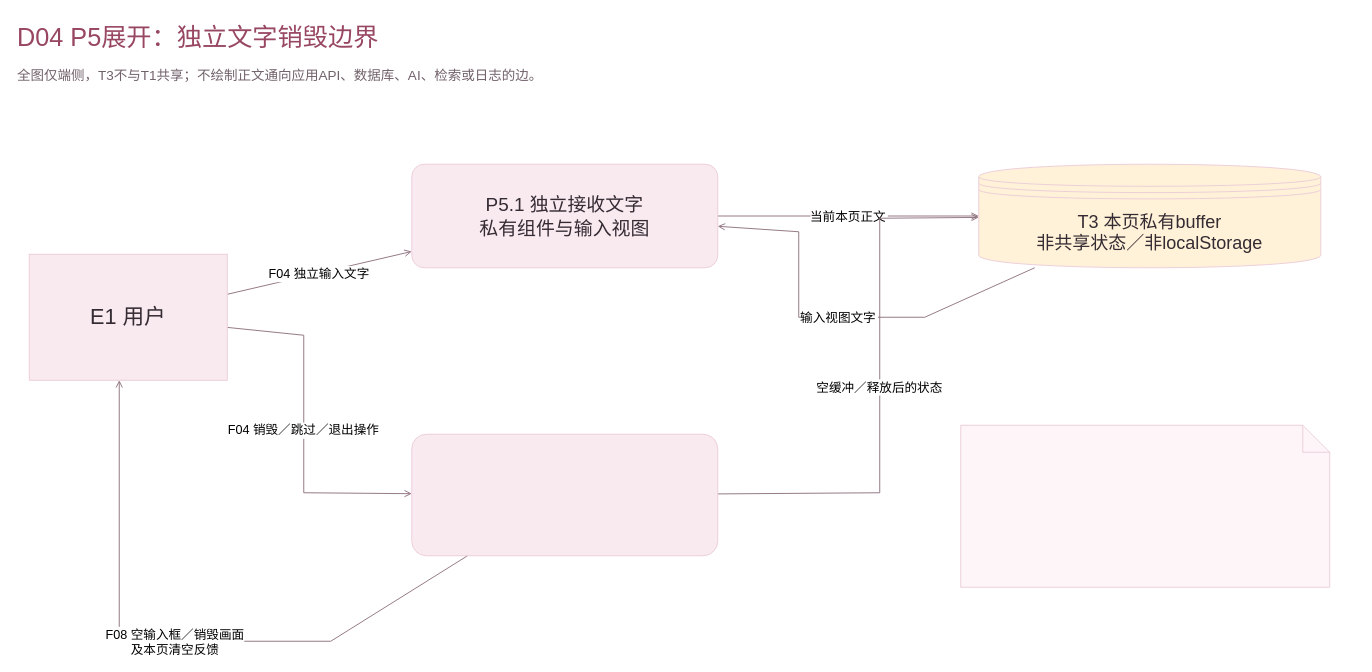
Some shapes in this 1372 by 672 pixel diagram are drawn without their labels. Here are the shapes that lost their labels. From the top down, the box of each, then its label:
(411, 433, 718, 556): P5.2 清缓冲并释放资源 destroy／clear／dispose 动画只保留非正文参数
(960, 424, 1330, 587): 无正文外发、持久化或遥测通路。 退出／动画失败同样清空。 该边界为设计要求，原型尚未完成安全审计。
